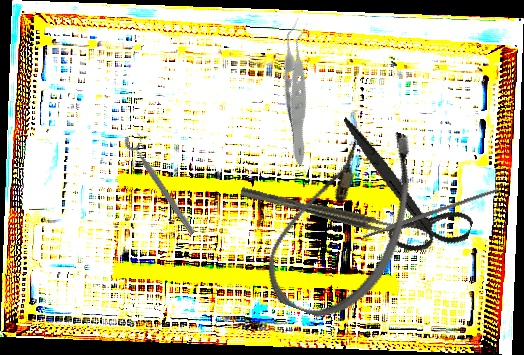Cannula: (253, 104, 436, 335)
Fixation Ring: (121, 129, 204, 238)
Iris Scissors: (312, 116, 492, 267)
Scalpel Handle: (361, 186, 501, 240)
Tissue Forceps: (234, 16, 365, 166), (239, 182, 403, 238)
